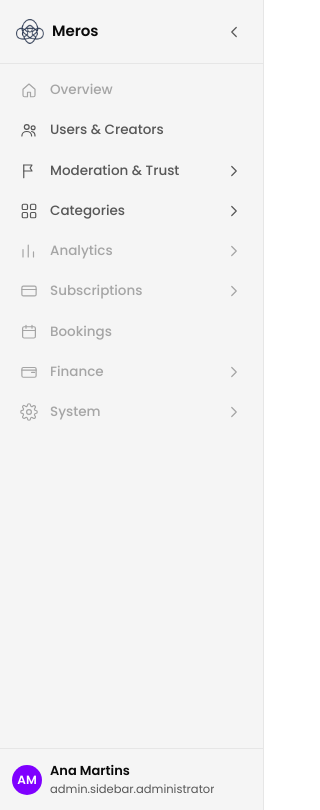
Test: Sidebar › expands an enabled group with sub-items on click and shows its leaves
The width and height of the screenshot is (320, 810).
Expected: the text "Category requests" is not shown
Click the button "Categories" at (132, 211), box [8, 193, 255, 229]
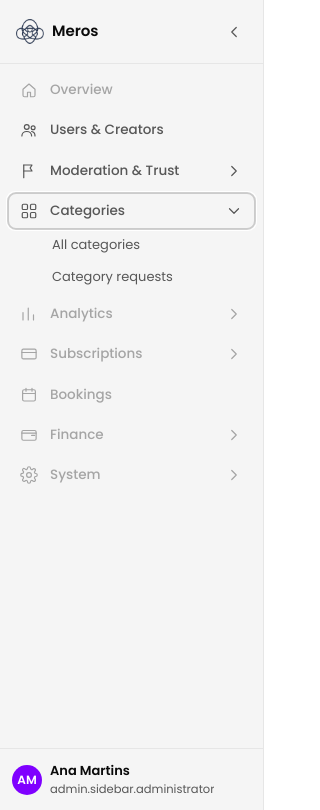
Now the link "Category requests" is shown, box [52, 266, 173, 286]
